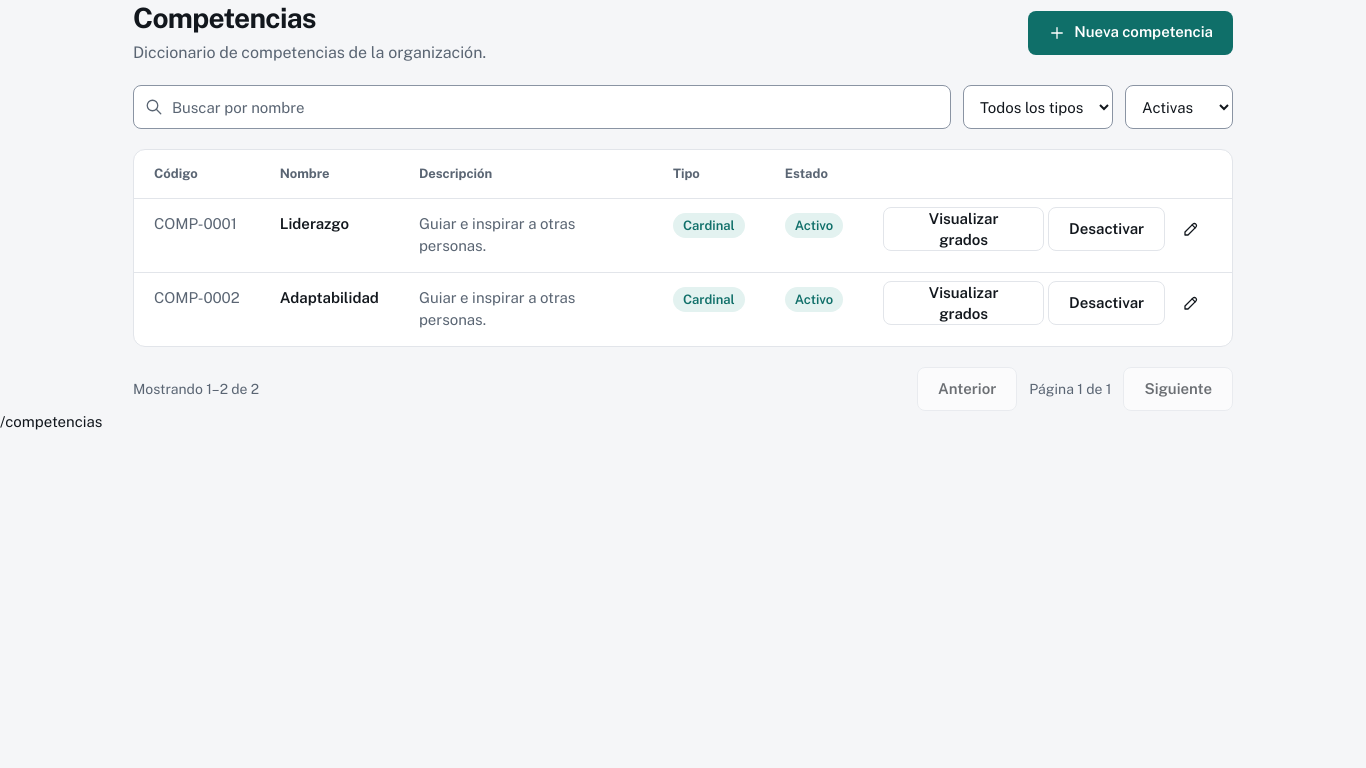
it: CompetenciasPage (activar y desactivar) › confirmar desactiva, cierra el diálogo, avisa y refresca el listado
Expected: the column heading "Liderazgo" is shown, [260,198,399,272]
Click the button with aria-label "Desactivar Liderazgo". click: x=1107, y=229
box: [1048,207,1165,251]
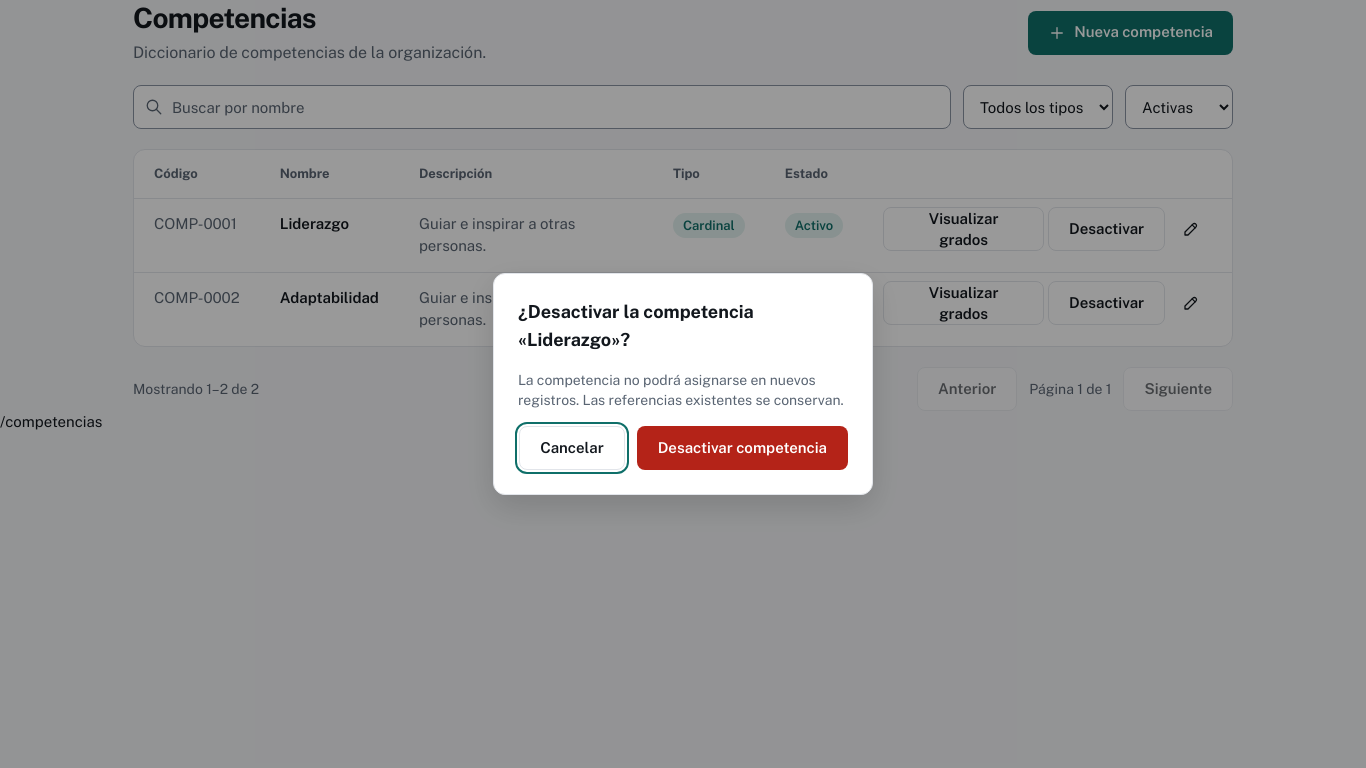
Click the button "Desactivar competencia". click: x=742, y=448
box: [637,426,848,470]
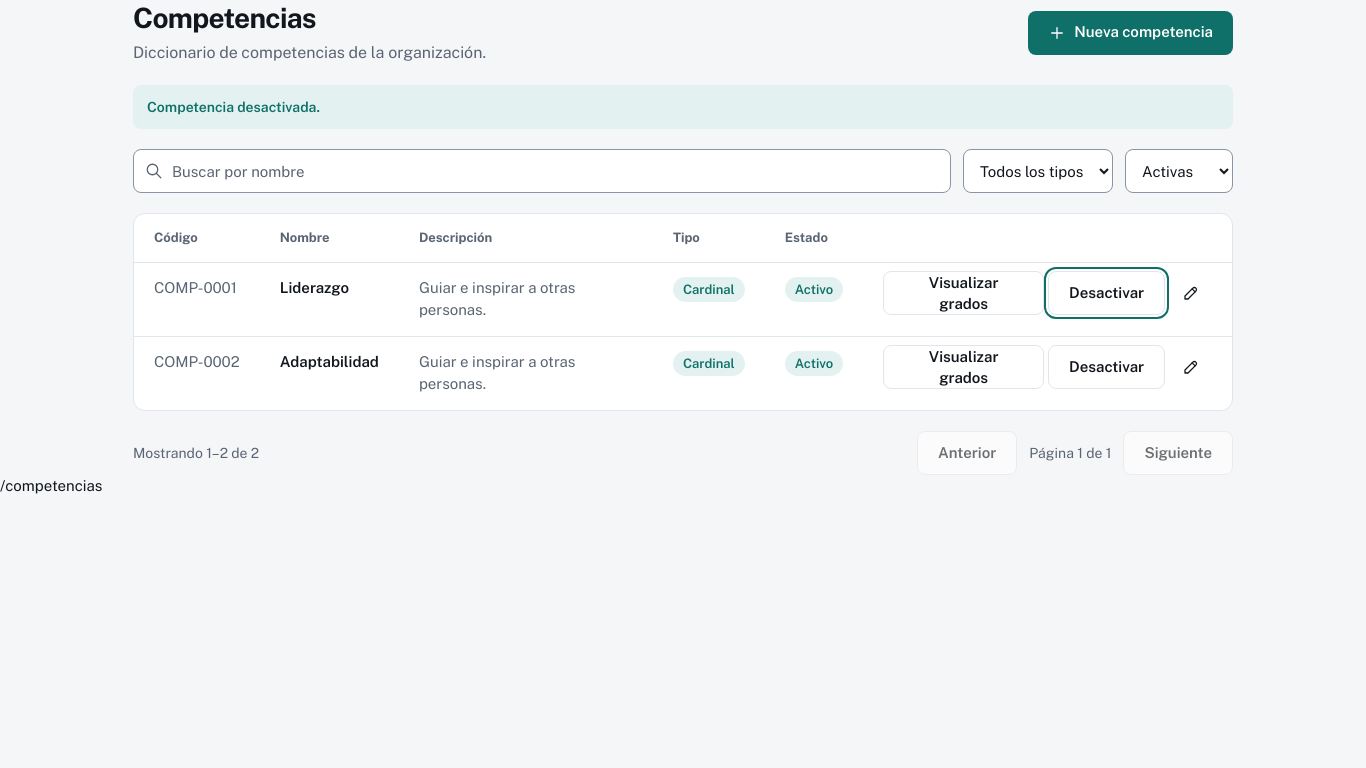
Now the text "Competencia desactivada." is shown, box [133,85,1233,129]
Now the dialog is gone
